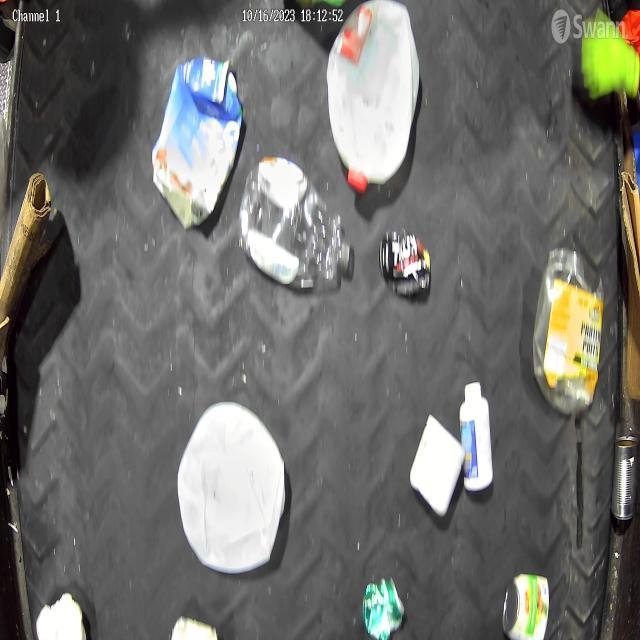can: (380, 232, 432, 296), (502, 572, 550, 640), (362, 575, 405, 640), (610, 434, 640, 522)
milk_jug: (177, 400, 286, 574), (327, 0, 420, 190)
plastic_bottle: (239, 157, 351, 293)
